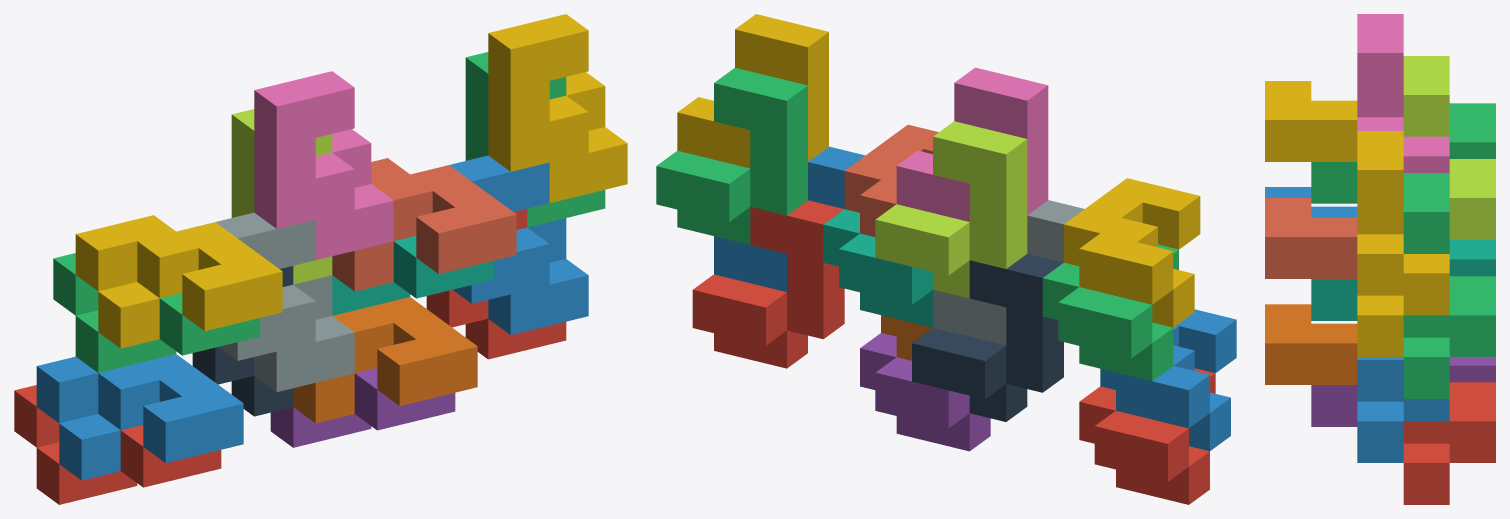
Rendered from tiling.obj.
3 renders of one model, left to right at view 1: azimuth 30°, elevation 25°; view 2: azimuth 150°, elevation 25°; view 3: azimuth 270°, elevation 25°, orthographic. The views are drawn at different scales.
Parts seen in each view (by area): view 1: copy_1_domain_4, copy_2_domain_4, copy_2_domain_8, copy_1_domain_2, copy_1_domain_8, copy_1_domain_6, copy_2_domain_6, copy_2_domain_2, copy_1_domain_3, copy_1_domain_1, copy_1_domain_5, copy_1_domain_7 (+4 smaller); view 2: copy_2_domain_7, copy_2_domain_3, copy_2_domain_5, copy_2_domain_1, copy_1_domain_4, copy_2_domain_4, copy_2_domain_8, copy_1_domain_2, copy_1_domain_3, copy_1_domain_1, copy_1_domain_5, copy_1_domain_7 (+4 smaller); view 3: copy_2_domain_8, copy_2_domain_7, copy_2_domain_5, copy_2_domain_3, copy_2_domain_4, copy_1_domain_4, copy_1_domain_6, copy_1_domain_8, copy_2_domain_6, copy_1_domain_3, copy_1_domain_7, copy_1_domain_5 (+1 smaller).
Boxes of the visible parts, left/top/right/bottom form: copy_1_domain_4: left=75, top=215, right=282, bottom=348; copy_2_domain_4: left=254, top=71, right=393, bottom=259; copy_2_domain_8: left=488, top=14, right=627, bottom=202; copy_1_domain_2: left=36, top=354, right=243, bottom=480; copy_1_domain_8: left=332, top=158, right=516, bottom=291; copy_1_domain_6: left=293, top=297, right=477, bottom=423; copy_2_domain_6: left=450, top=155, right=588, bottom=334; copy_2_domain_2: left=215, top=212, right=354, bottom=391; copy_1_domain_3: left=53, top=253, right=260, bottom=372; copy_1_domain_1: left=14, top=385, right=221, bottom=504; copy_1_domain_5: left=270, top=368, right=455, bottom=447; copy_1_domain_7: left=332, top=236, right=494, bottom=315; copy_2_domain_7: left=656, top=67, right=807, bottom=244; copy_2_domain_3: left=875, top=121, right=1027, bottom=298; copy_2_domain_5: left=692, top=200, right=844, bottom=368; copy_2_domain_1: left=912, top=254, right=1063, bottom=421; copy_1_domain_4: left=1064, top=178, right=1200, bottom=327; copy_2_domain_4: left=896, top=67, right=1048, bottom=221; copy_2_domain_8: left=677, top=14, right=828, bottom=168; copy_1_domain_2: left=1100, top=309, right=1236, bottom=451; copy_1_domain_3: left=1042, top=244, right=1178, bottom=381; copy_1_domain_1: left=1079, top=368, right=1215, bottom=504; copy_1_domain_5: left=860, top=333, right=990, bottom=451; copy_1_domain_7: left=823, top=209, right=932, bottom=327; copy_2_domain_8: left=1357, top=131, right=1449, bottom=356; copy_2_domain_7: left=1403, top=173, right=1495, bottom=398; copy_2_domain_5: left=1403, top=382, right=1495, bottom=504; copy_2_domain_3: left=1403, top=56, right=1495, bottom=239; copy_2_domain_4: left=1357, top=14, right=1449, bottom=172; copy_1_domain_4: left=1265, top=81, right=1357, bottom=161; copy_1_domain_6: left=1265, top=304, right=1357, bottom=384; copy_1_domain_8: left=1265, top=198, right=1357, bottom=278; copy_2_domain_6: left=1357, top=357, right=1449, bottom=462; copy_1_domain_3: left=1311, top=103, right=1495, bottom=203; copy_1_domain_7: left=1311, top=240, right=1495, bottom=320; copy_1_domain_5: left=1311, top=357, right=1495, bottom=426.
Size of the model in its own units: 14 by 9 by 5.
